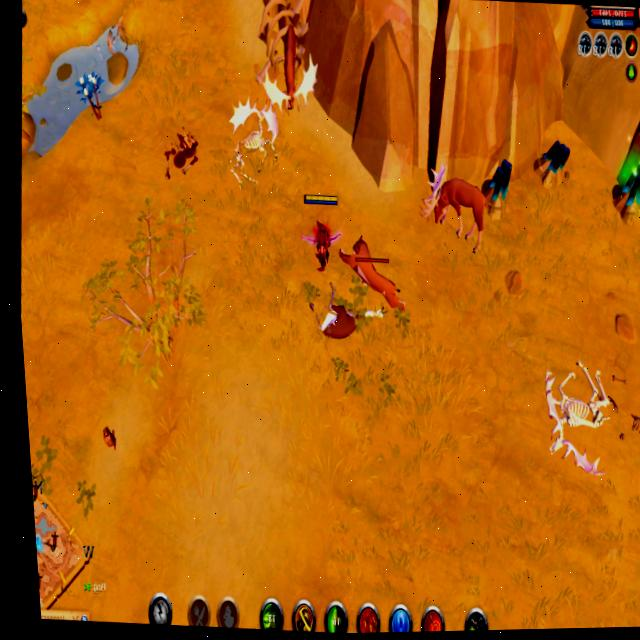hide: (68, 57, 113, 135)
mob: (299, 277, 394, 361)
ore: (413, 155, 498, 270), (334, 226, 417, 330), (254, 16, 326, 130)
red: (292, 185, 349, 278)
